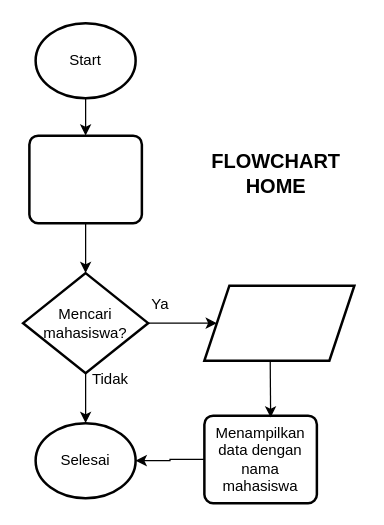
This 384x525 diagram has some shape labels left out. Here are the shapes that lost their labels. From the top down, the centre of each, then its label:
At [85,179]: "Menampilkan data mahasiswa".
At [278,322]: "Input nama".
